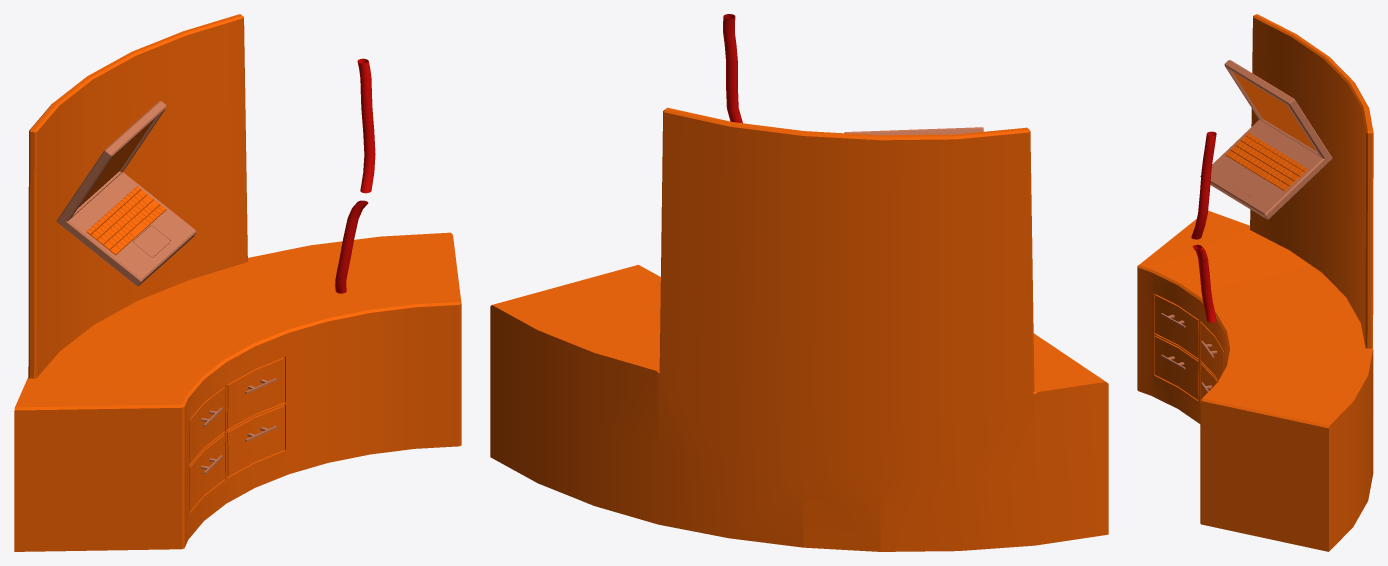
The model's file is scientistTable.glb.
3 views of the same model, side by side, from view 1: azimuth 30°, elevation 25°; view 2: azimuth 150°, elevation 25°; view 3: azimuth 270°, elevation 25° (orthographic). The views are drawn at different scales.
Visible parts, largest first — view 1: scientist_TableTop.001, lenovo_Base, wire_broken_1c, lenovo_Keys, scientistTableTop_Handles; view 2: scientist_TableTop.001, wire_broken_1c, lenovo_Base; view 3: scientist_TableTop.001, lenovo_Base, lenovo_Keys, wire_broken_1c, scientistTableTop_Handles.
Part boxes in pixels (box(x1,y1,x2,y2)): scientist_TableTop.001: box(14, 14, 461, 551); lenovo_Base: box(56, 101, 196, 286); wire_broken_1c: box(335, 58, 375, 293); lenovo_Keys: box(86, 186, 166, 255); scientistTableTop_Handles: box(201, 378, 276, 474); scientist_TableTop.001: box(490, 107, 1108, 551); wire_broken_1c: box(723, 14, 742, 123); lenovo_Base: box(844, 127, 983, 135); scientist_TableTop.001: box(1137, 14, 1373, 551); lenovo_Base: box(1200, 60, 1332, 219); lenovo_Keys: box(1225, 133, 1307, 191); wire_broken_1c: box(1191, 131, 1216, 322); scientistTableTop_Handles: box(1161, 313, 1217, 392).
Bounding box in the file's own units: 3.71 × 2.8 × 1.71.
